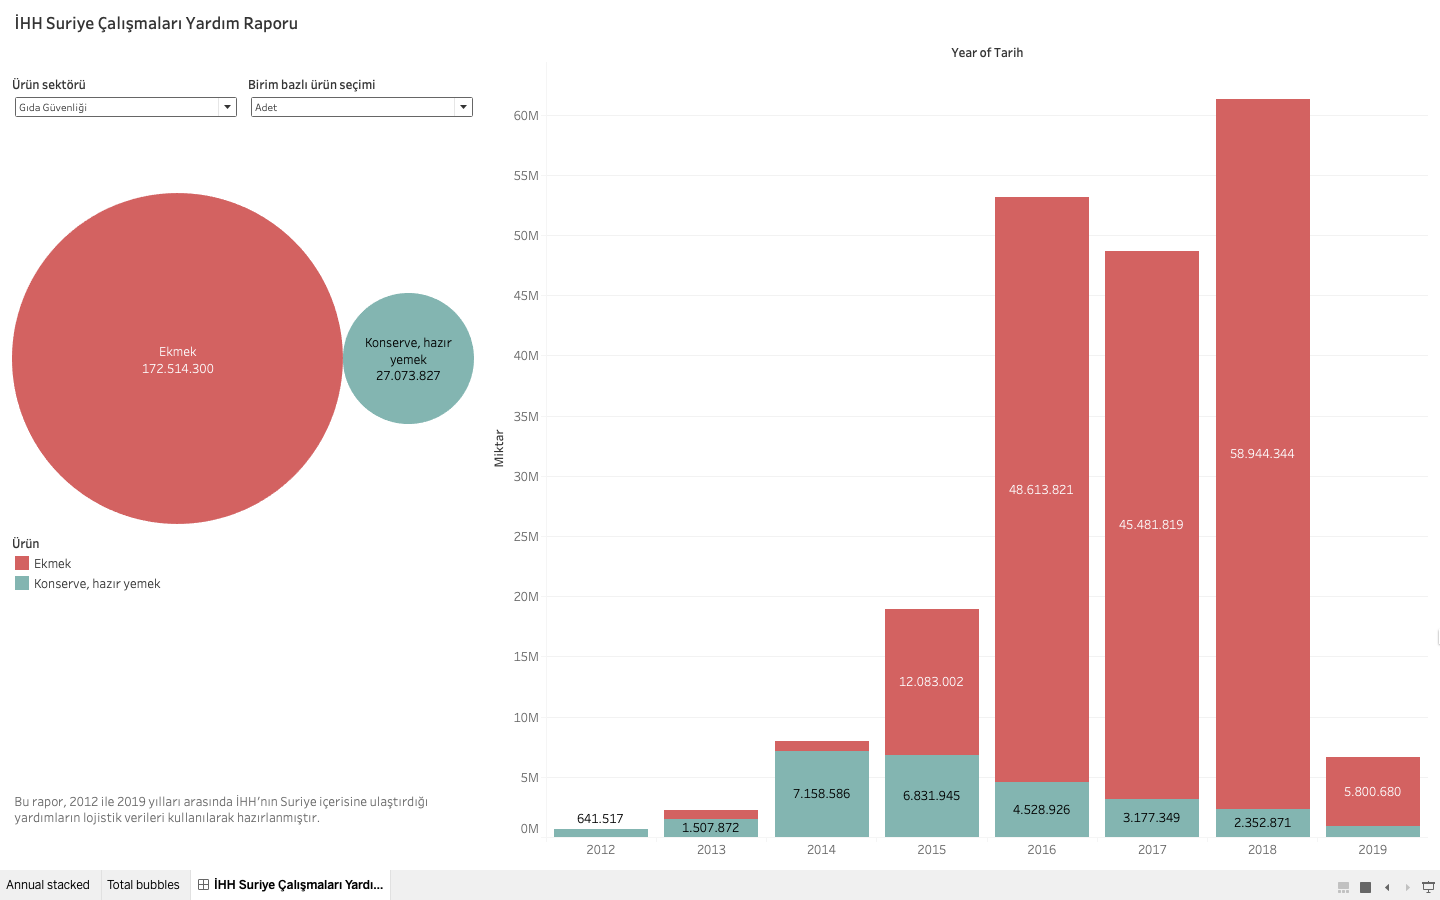

The dashboard page shown, as its layout file describes it:
{"tool":"tableau","page":{"name":"İHH Suriye Çalışmaları Yardım Raporu","canvas":[1000,1000],"units":"permille","ordinal":0},"visuals":[{"type":"title","box":[6.5,9.9,987,37.1]},{"type":"blank","box":[6.5,47,326.8,39.4]},{"type":"worksheet","title":"Annual stacked","mark":"Bar","rows":["Miktar"],"cols":["Tarih"],"box":[333.3,47,660.2,943.1]},{"type":"filter","title":"Total bubbles","param":"[federated.1mxeqqh1x6fw6u15vb8dy1q2r8ap].[none:Sektör:nk]","box":[6.5,86.4,163.3,90.4]},{"type":"filter","title":"Total bubbles","param":"[federated.1mxeqqh1x6fw6u15vb8dy1q2r8ap].[none:Birim:nk]","box":[169.8,86.4,163.5,90.4]},{"type":"blank","box":[6.5,176.8,326.8,39.6]},{"type":"worksheet","title":"Total bubbles","mark":"Circle","box":[6.5,216.4,326.8,394.6]},{"type":"legend","title":"Total bubbles","param":"[federated.1mxeqqh1x6fw6u15vb8dy1q2r8ap].[none:Ürün:nk]","box":[6.5,611.1,326.8,258.9]},{"type":"text","box":[6.5,869.9,326.8,120.2]}]}

Visuals, with their boxes on the dashboard's canvas, which has no fixed pixel size, in thousandths of its width and height (x1, y1, x2, y2). These are canvas units, not pixel positions in the 1440x900 screenshot, which may show the page scaled, cropped or inside an application window:
title: [x1=6, y1=10, x2=994, y2=47]
blank: [x1=6, y1=47, x2=333, y2=86]
"Annual stacked" worksheet (Bar marks): [x1=333, y1=47, x2=994, y2=990]
"Total bubbles" filter: [x1=6, y1=86, x2=170, y2=177]
"Total bubbles" filter: [x1=170, y1=86, x2=333, y2=177]
blank: [x1=6, y1=177, x2=333, y2=216]
"Total bubbles" worksheet (Circle marks): [x1=6, y1=216, x2=333, y2=611]
"Total bubbles" legend: [x1=6, y1=611, x2=333, y2=870]
text: [x1=6, y1=870, x2=333, y2=990]
